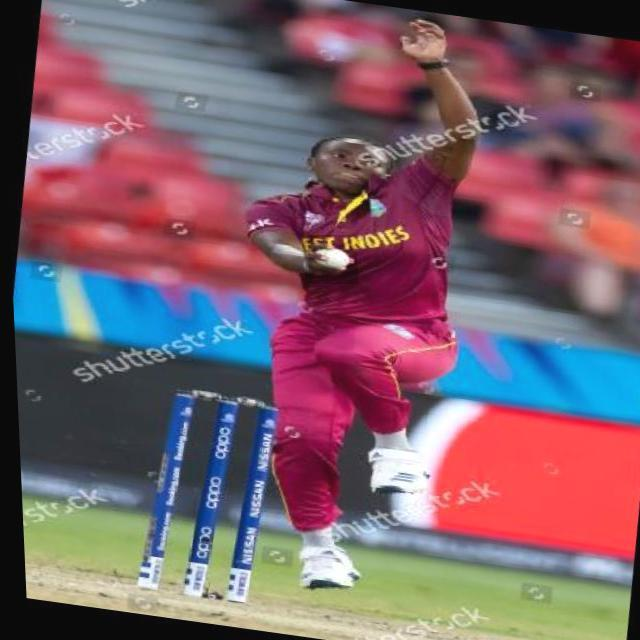-: (305, 235, 356, 284)
